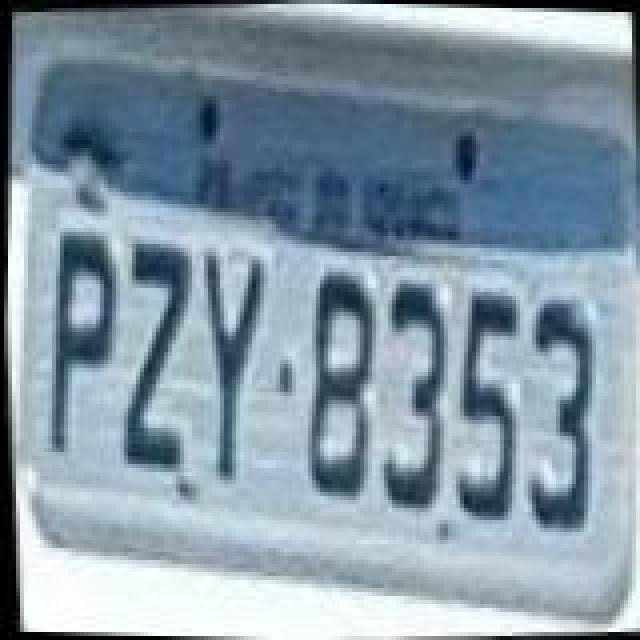3: (504, 290, 608, 542), (358, 264, 462, 512)
5: (430, 278, 534, 526)
8: (284, 260, 392, 500)
P: (28, 220, 132, 460)
Y: (186, 242, 282, 486)
Z: (98, 228, 210, 480)
